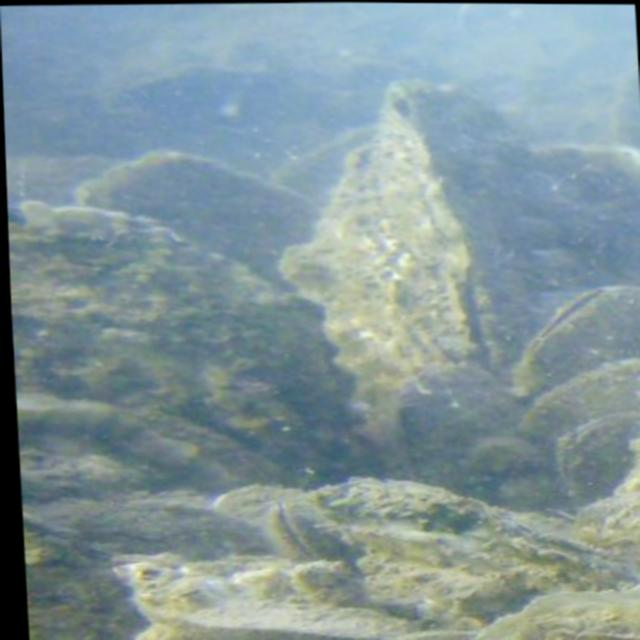Oyster-Closed: (509, 286, 640, 401), (477, 582, 640, 640), (558, 408, 640, 506), (268, 500, 343, 564)
Oyster-Indeterminate: (8, 200, 415, 486), (288, 83, 574, 446), (16, 394, 245, 640), (315, 479, 640, 622), (75, 150, 326, 321), (536, 145, 640, 302), (188, 599, 411, 640), (523, 361, 640, 436), (269, 127, 371, 205), (580, 448, 640, 565)
